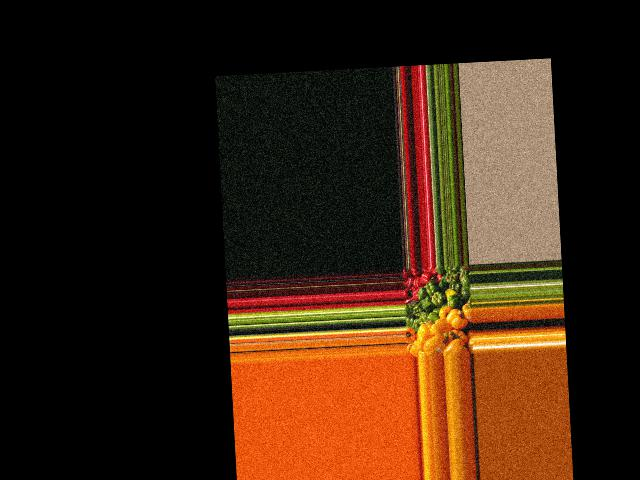bell_pepper: (458, 265, 471, 281)
